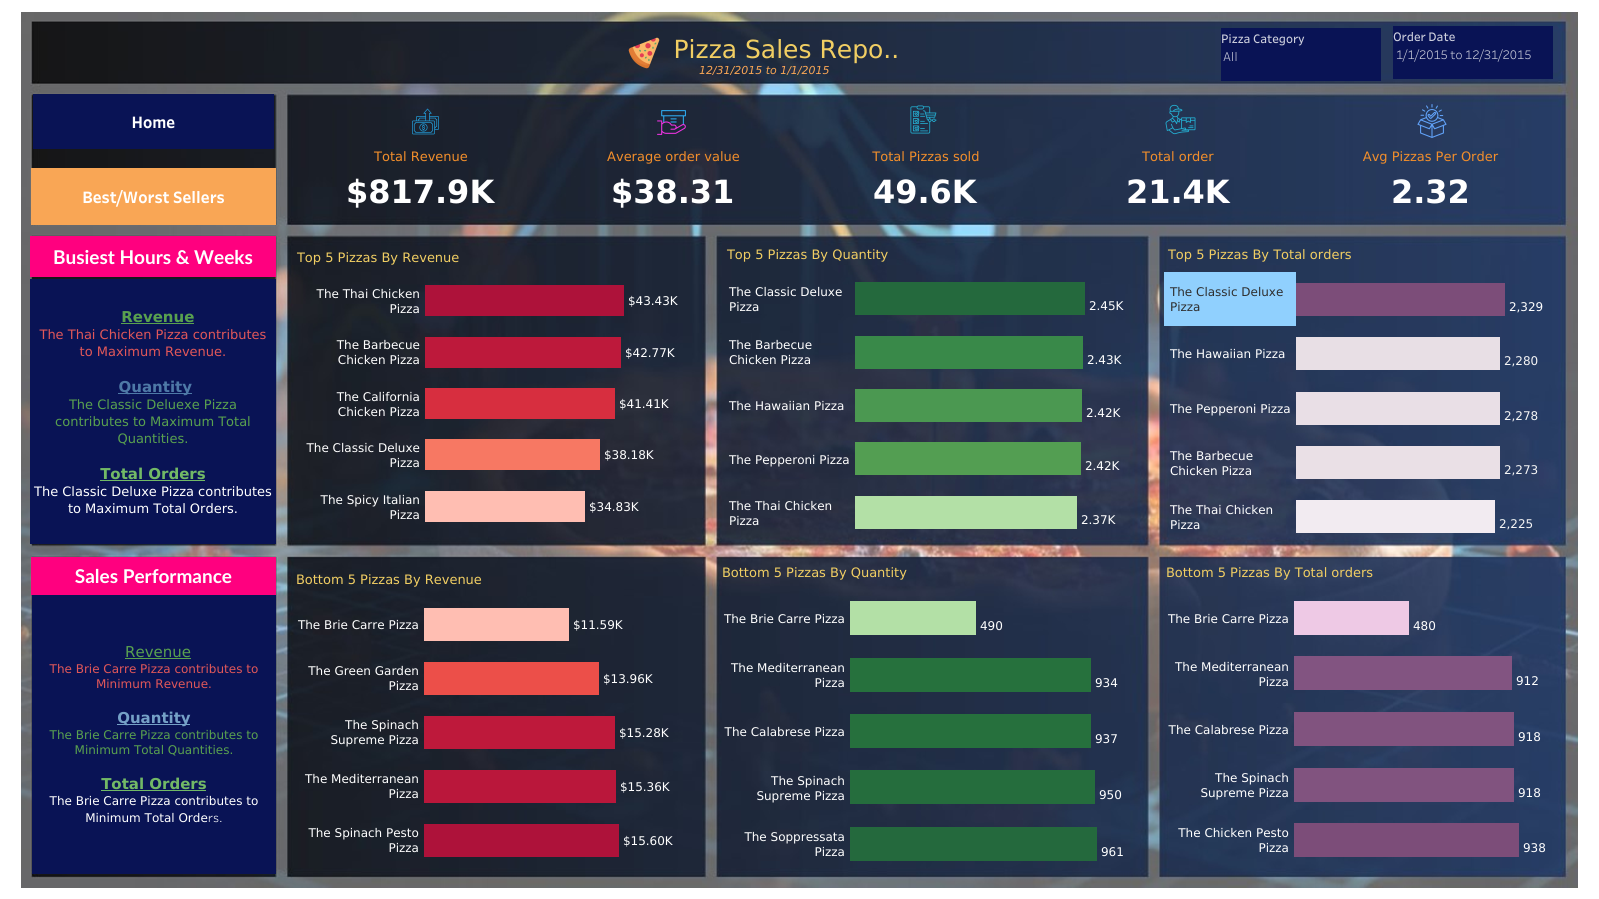

What the dashboard file says about the page in this screenshot:
{"tool":"tableau","page":{"name":"Best/ Worst Sellers","canvas":[1600,900],"ordinal":0},"visuals":[{"type":"image","param":"C:/Users/Itachi/Desktop/New project tableu/Pizza Tableau 2.jpg","box":[8,8,1584,884]},{"type":"filter","title":"Date Range","param":"[federated.03bgv0s0dyzwbk13dzrzc1rfufev].[none:order_date:qk]","box":[1393,26,160,53]},{"type":"filter","title":"Date Range","param":"[federated.03bgv0s0dyzwbk13dzrzc1rfufev].[none:pizza_category:nk]","box":[1221,28,160,53]},{"type":"text","box":[671,32,230,34]},{"type":"image","param":"C:/Users/Itachi/Desktop/New project tableu/Pizza Sales Images/pizza-slice.png","box":[617,37,54,32]},{"type":"worksheet","title":"Date Range","mark":"Automatic","box":[644,61,241,19]},{"type":"dashboard-object","box":[33,94,241,55]},{"type":"image","param":"C:/Users/Itachi/Desktop/New project tableu/Pizza Sales Images/delivery-man.png","box":[1162,104,38,31]},{"type":"image","param":"C:/Users/Itachi/Desktop/New project tableu/Pizza Sales Images/order (1).png","box":[1415,104,41,34]},{"type":"image","param":"C:/Users/Itachi/Desktop/New project tableu/Pizza Sales Images/order-delivery.png","box":[909,105,29,30]},{"type":"image","param":"C:/Users/Itachi/Desktop/New project tableu/Pizza Sales Images/profit-growth.png","box":[410,106,54,31]},{"type":"image","param":"C:/Users/Itachi/Desktop/New project tableu/Pizza Sales Images/shipping-box.png","box":[654,106,36,33]},{"type":"worksheet","title":"KPI Banner","mark":"Automatic","box":[295,146,1262,72]},{"type":"dashboard-object","box":[31,168,245,57]},{"type":"text","box":[30,236,246,41]},{"type":"worksheet","title":"Top 5 Pizzas By Quantity","mark":"Automatic","rows":["pizza_name"],"cols":["Calculation_1211749794694283267"],"box":[723,240,417,299]},{"type":"worksheet","title":"Top 5 Pizzas By Total orders","mark":"Automatic","rows":["pizza_name"],"cols":["Calculation_1211749794693611521"],"box":[1164,240,394,304]},{"type":"worksheet","title":"Top 5 Pizzas By Revenue","mark":"Automatic","rows":["pizza_name"],"cols":["Calculation_1211749794689060864"],"box":[293,243,400,289]},{"type":"text","box":[30,279,246,265]},{"type":"text","box":[31,557,245,38]},{"type":"worksheet","title":"Bottom 5 Pizzas By Quantity ","mark":"Automatic","rows":["pizza_name"],"cols":["Calculation_1211749794694283267"],"box":[718,558,423,314]},{"type":"worksheet","title":"Bottom 5 Pizzas By Total orders ","mark":"Automatic","rows":["pizza_name"],"cols":["Calculation_1211749794693611521"],"box":[1162,558,399,310]},{"type":"worksheet","title":"Bottom 5 Pizzas By Revenue ","mark":"Automatic","rows":["pizza_name"],"cols":["Calculation_1211749794689060864"],"box":[292,565,396,302]},{"type":"text","box":[32,595,244,279]}]}

Visuals, with their boxes in screenshot pixels (x1, y1, x2, y2), scaled from the page's 1600x900 canvas onto the 1599x899 screenshot:
image: region(8, 8, 1591, 891)
"Date Range" filter: region(1392, 26, 1552, 79)
"Date Range" filter: region(1220, 28, 1380, 81)
text: region(671, 32, 900, 66)
image: region(617, 37, 671, 69)
"Date Range" worksheet: region(644, 61, 884, 80)
dashboard-object: region(33, 94, 274, 149)
image: region(1161, 104, 1199, 135)
image: region(1414, 104, 1455, 138)
image: region(908, 105, 937, 135)
image: region(410, 106, 464, 137)
image: region(654, 106, 690, 139)
"KPI Banner" worksheet: region(295, 146, 1556, 218)
dashboard-object: region(31, 168, 276, 225)
text: region(30, 236, 276, 277)
"Top 5 Pizzas By Quantity" worksheet: region(723, 240, 1139, 538)
"Top 5 Pizzas By Total orders" worksheet: region(1163, 240, 1557, 543)
"Top 5 Pizzas By Revenue" worksheet: region(293, 243, 693, 531)
text: region(30, 279, 276, 543)
text: region(31, 556, 276, 594)
"Bottom 5 Pizzas By Quantity " worksheet: region(718, 557, 1140, 871)
"Bottom 5 Pizzas By Total orders " worksheet: region(1161, 557, 1560, 867)
"Bottom 5 Pizzas By Revenue " worksheet: region(292, 564, 688, 866)
text: region(32, 594, 276, 873)
